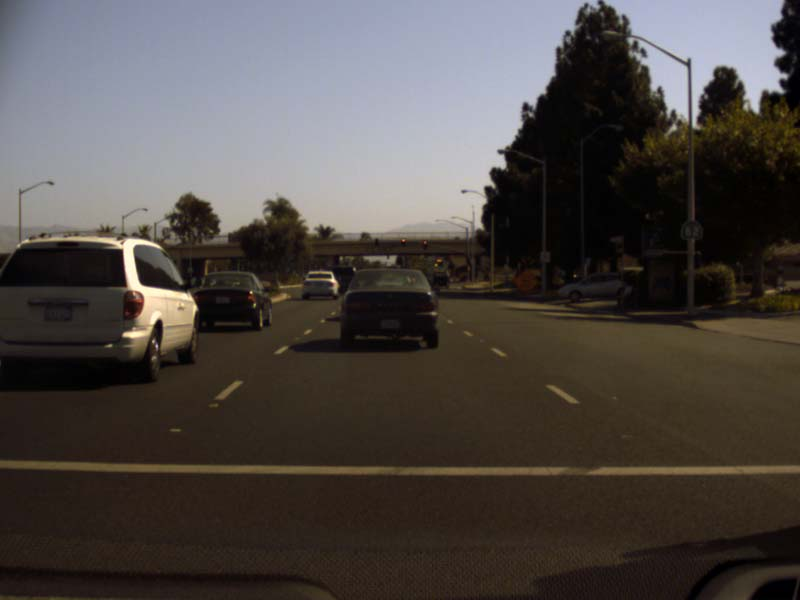Red: (400, 238, 406, 248), (422, 240, 428, 249), (466, 264, 470, 271)
